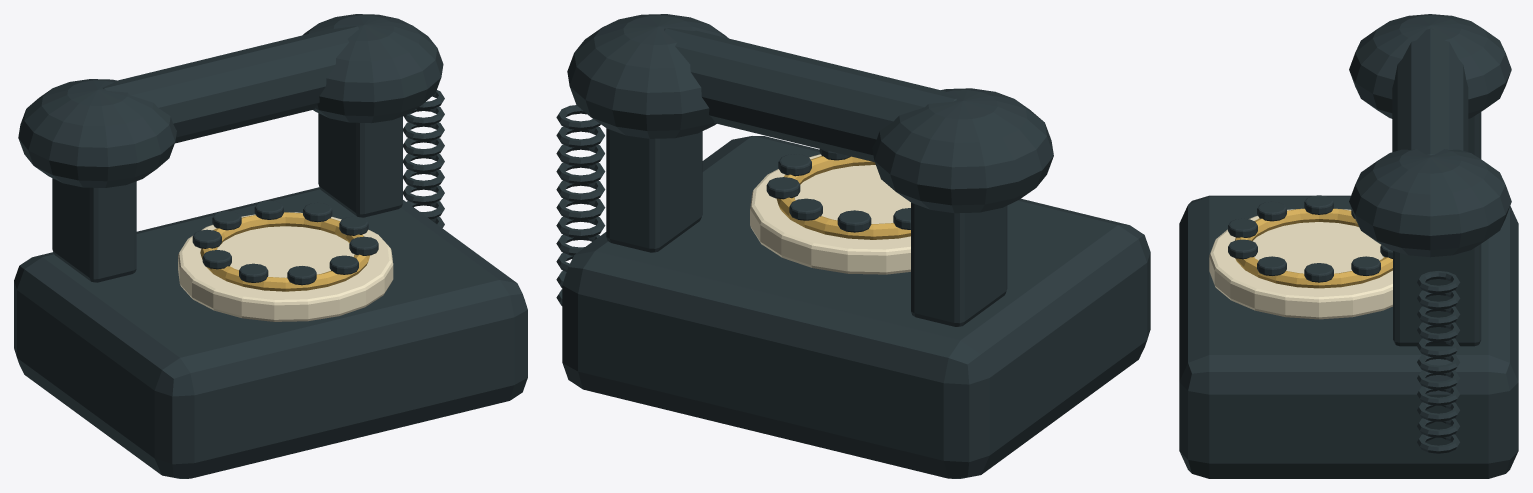
File: P018_rotary_phone.glb
3 renders of one model, left to right at view 1: azimuth 30°, elevation 25°; view 2: azimuth 150°, elevation 25°; view 3: azimuth 270°, elevation 25°, orthographic. The views are drawn at different scales.
Parts seen in each view (by area): view 1: P018_base_001, P018_receiver_018, P018_earpiece_015, P018_dial_002, P018_earpiece_017, P018_cradle_014, P018_cradle_016, P018_dial_ring_003; view 2: P018_base_001, P018_receiver_018, P018_earpiece_015, P018_earpiece_017, P018_dial_002, P018_cradle_016, P018_cradle_014, P018_dial_ring_003, P018_coiled_cord_024, P018_coiled_cord_025, P018_coiled_cord_026, P018_coiled_cord_023 (+6 smaller); view 3: P018_base_001, P018_earpiece_017, P018_dial_002, P018_earpiece_015, P018_receiver_018, P018_cradle_016, P018_dial_ring_003, P018_coiled_cord_029, P018_cradle_014, P018_coiled_cord_022, P018_coiled_cord_023, P018_coiled_cord_027 (+14 smaller).
Boxes of the visible parts, left/top/right/bottom form: P018_base_001: left=14, top=187, right=527, bottom=478; P018_receiver_018: left=103, top=26, right=358, bottom=143; P018_earpiece_015: left=18, top=79, right=176, bottom=187; P018_dial_002: left=178, top=212, right=393, bottom=321; P018_earpiece_017: left=303, top=14, right=443, bottom=123; P018_cradle_014: left=52, top=178, right=136, bottom=282; P018_cradle_016: left=318, top=113, right=402, bottom=217; P018_dial_ring_003: left=200, top=212, right=370, bottom=291; P018_base_001: left=562, top=136, right=1150, bottom=478; P018_receiver_018: left=664, top=28, right=957, bottom=161; P018_earpiece_015: left=872, top=88, right=1053, bottom=213; P018_earpiece_017: left=567, top=14, right=728, bottom=138; P018_dial_002: left=750, top=154, right=910, bottom=274; P018_cradle_016: left=606, top=128, right=702, bottom=252; P018_cradle_014: left=911, top=202, right=1007, bottom=326; P018_dial_ring_003: left=776, top=156, right=910, bottom=239; P018_coiled_cord_024: left=556, top=198, right=605, bottom=220; P018_coiled_cord_025: left=556, top=180, right=605, bottom=202; P018_coiled_cord_026: left=556, top=162, right=605, bottom=184; P018_coiled_cord_023: left=556, top=216, right=605, bottom=238; P018_base_001: left=1179, top=195, right=1518, bottom=478; P018_earpiece_017: left=1349, top=149, right=1511, bottom=257; P018_dial_002: left=1209, top=208, right=1392, bottom=319; P018_earpiece_015: left=1349, top=14, right=1511, bottom=118; P018_receiver_018: left=1392, top=28, right=1468, bottom=155; P018_cradle_016: left=1393, top=244, right=1481, bottom=346; P018_dial_ring_003: left=1235, top=208, right=1392, bottom=288; P018_coiled_cord_029: left=1417, top=271, right=1460, bottom=293; P018_cradle_014: left=1468, top=112, right=1481, bottom=158; P018_coiled_cord_022: left=1417, top=386, right=1459, bottom=405; P018_coiled_cord_023: left=1417, top=370, right=1459, bottom=389; P018_coiled_cord_027: left=1417, top=306, right=1460, bottom=325.
Bounding box in the file's own units: 0.361 × 0.25 × 0.25.
